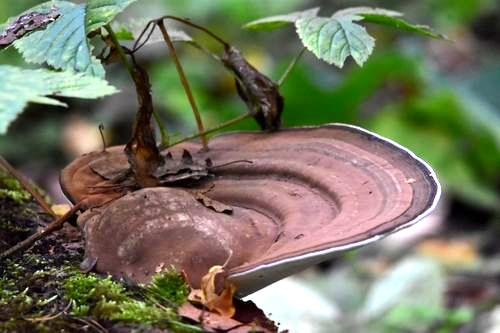Ganoderma - Fruit Body: (54, 117, 445, 290)
